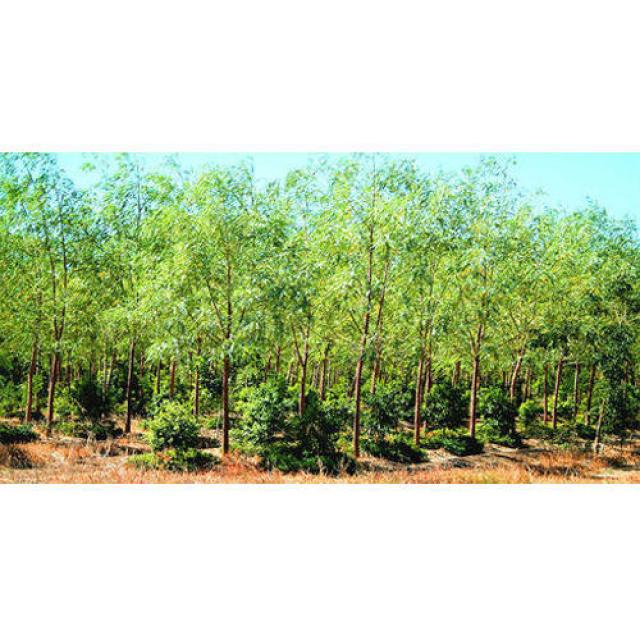Medicinal-Sandalwood: (0, 147, 638, 430)
